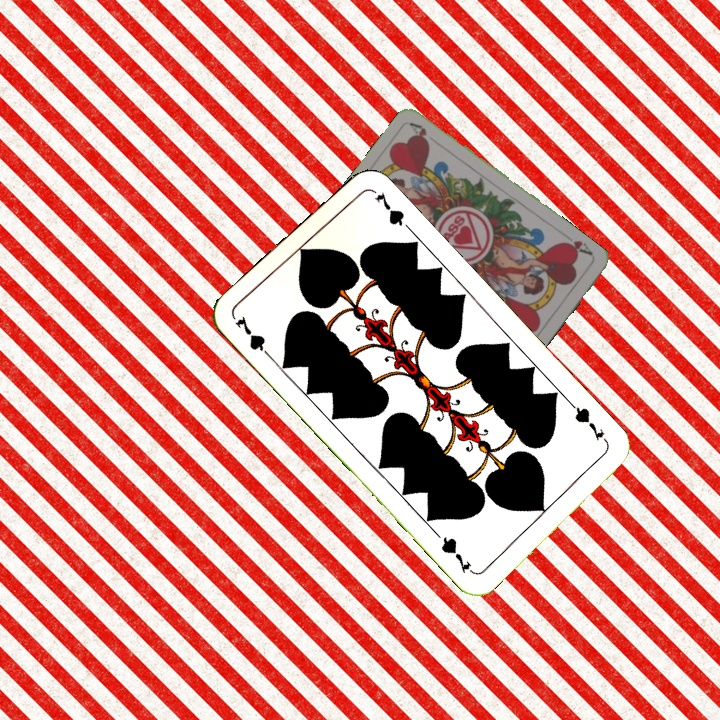G7: (230, 312, 277, 363), (567, 400, 612, 448)
HA: (558, 231, 595, 258)
